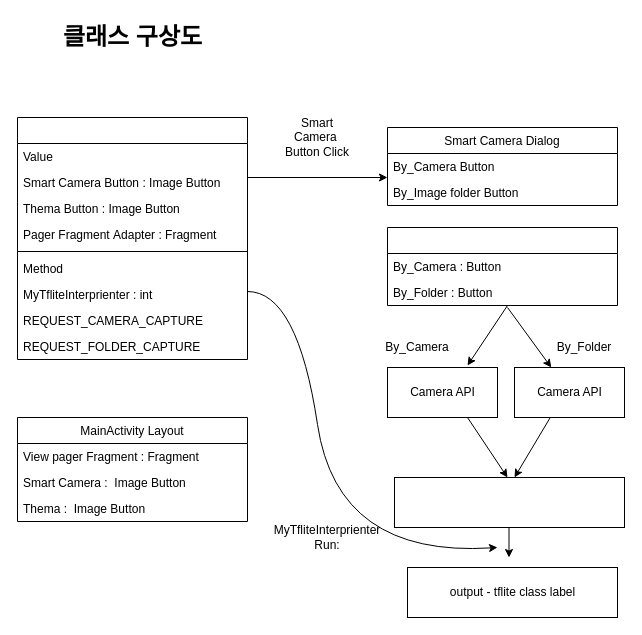
This 642x635 diagram has some shape labels left out. The shapes that lost their labels are listed below. From the top down, each one's box as (x1, y1, x2, y2) in pixels, then its label:
(16, 116, 248, 360): MainActivity
(386, 226, 618, 306): SmartCamer DIalog Layout
(394, 476, 624, 528): input - Capture Image Date : Image
